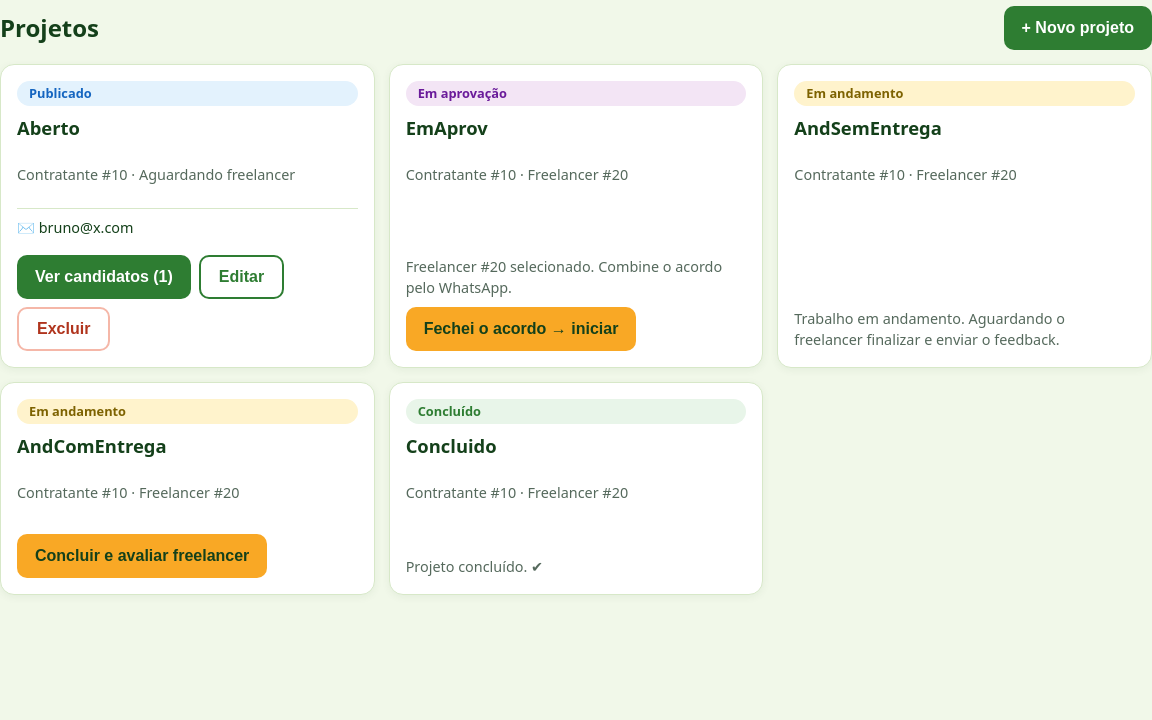
it: @interface Projetos — contratante › no modal de candidatos: mostra erro se a remoção falha
Check: the heading "Aberto" is shown, box [17,115,80,140]
What coordinates should you click on to do the following:
click the button with test id "ver-candidatos"
I would click on:
 (104, 277)
Its box is [17,255,191,299].
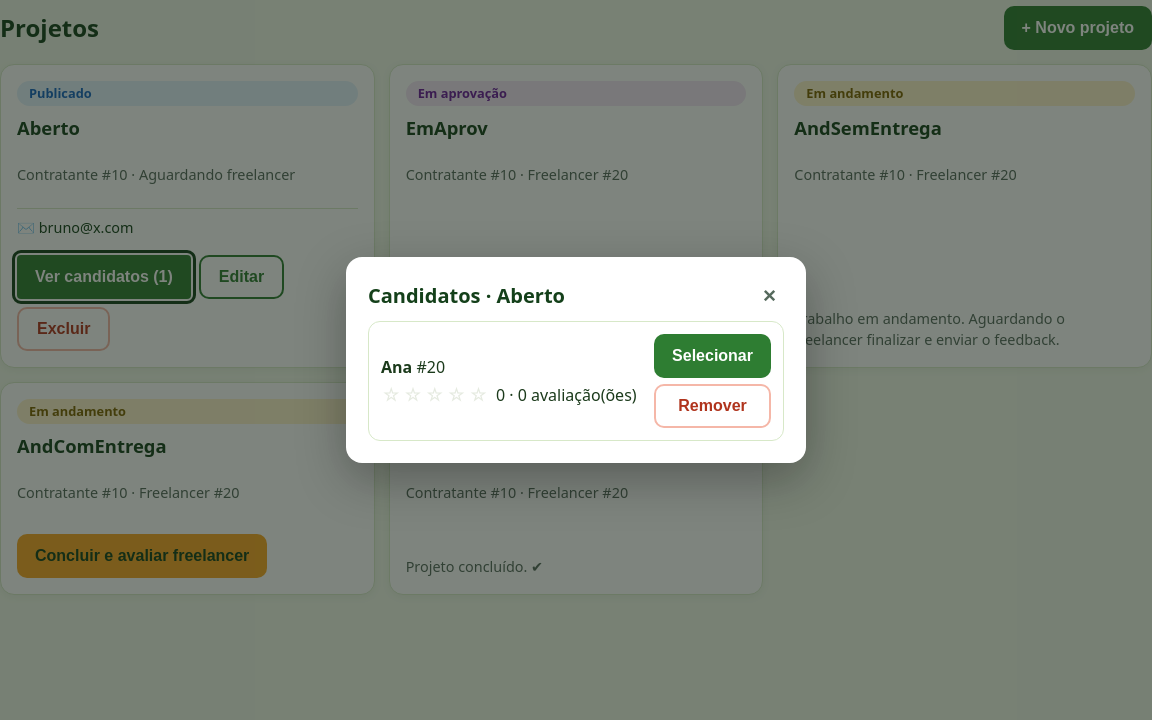
Check: the list item with test id "candidato" is shown, box [368,321,784,441]
What coordinates should you click on to do the following:
click the button with test id "remover-candidato-20"
I would click on:
 (713, 406)
Its box is [654,384,771,428].
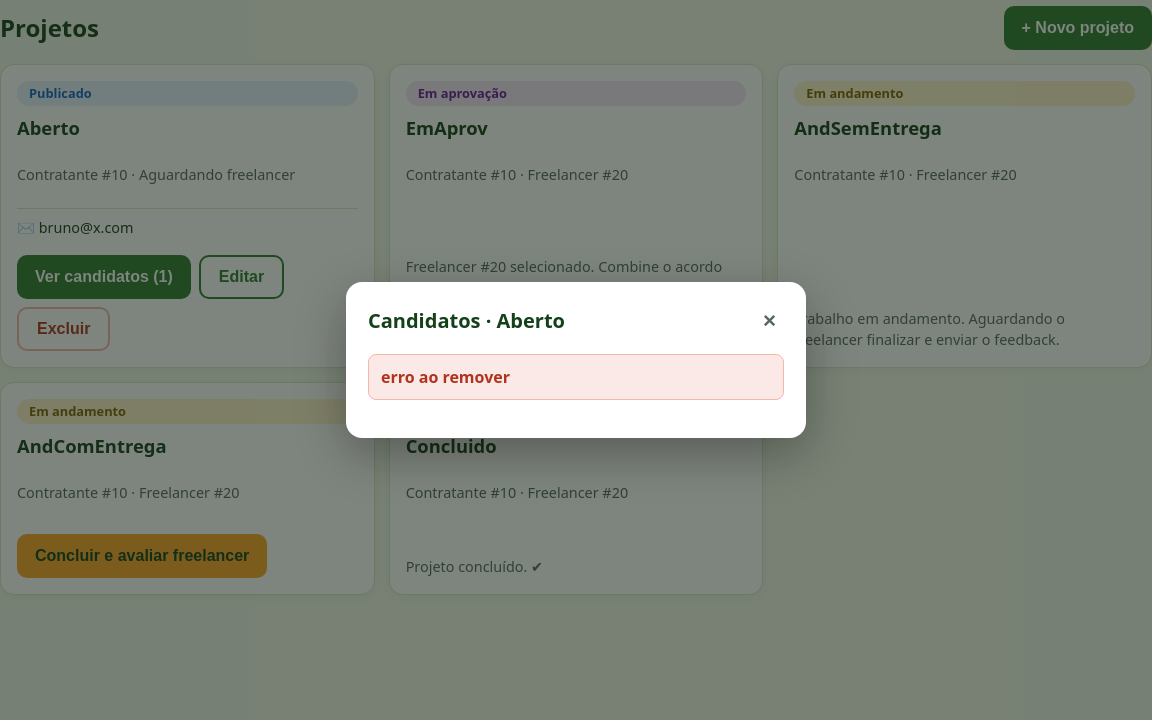
Check: the text "erro ao remover" is shown, box [368,354,784,400]
